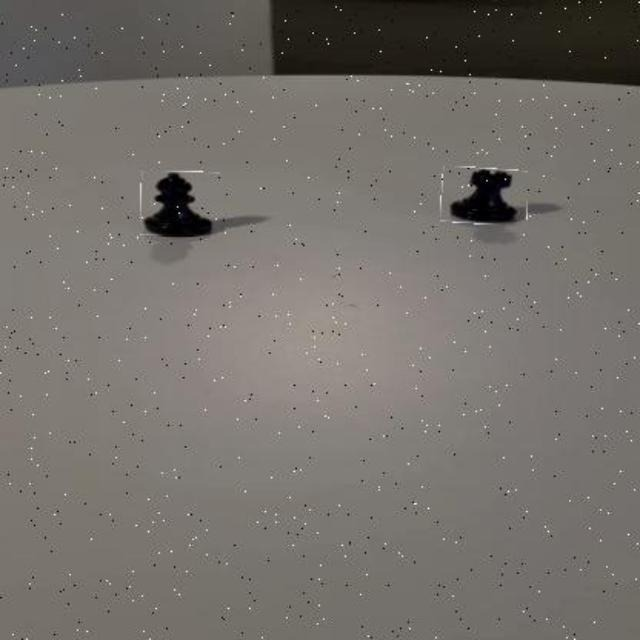black-bishop: (142, 173, 222, 237)
black-rook: (441, 169, 528, 225)
